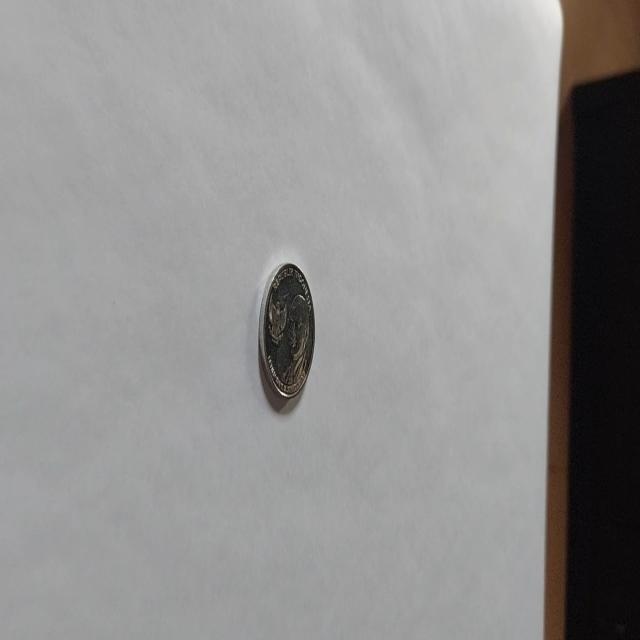lima ratus rupiah: (256, 260, 316, 402)
